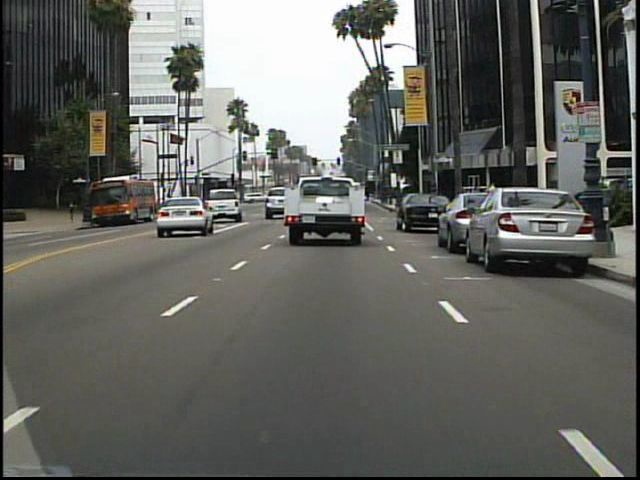person: (485, 179, 502, 222), (66, 193, 82, 228)
